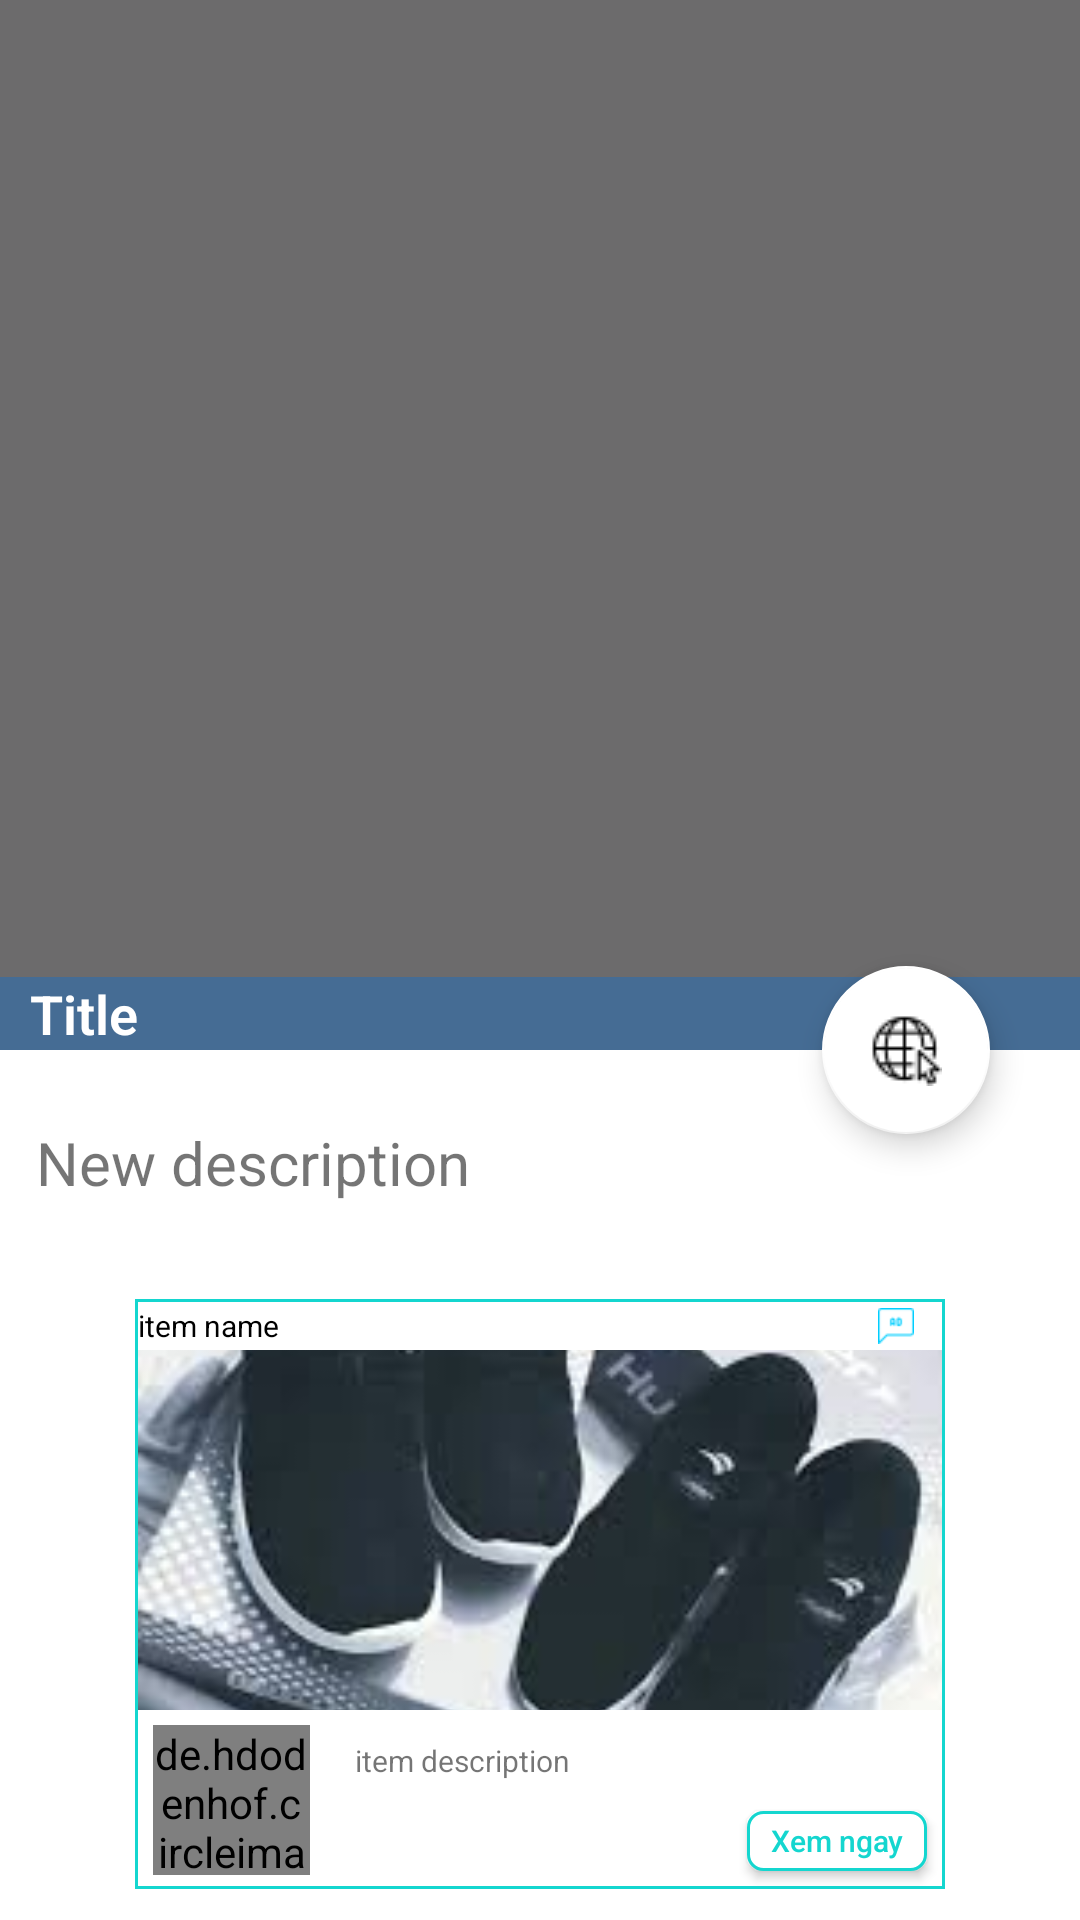

Where to tap for icons on this 1080×1920 app screen, as (x=x, y=y):
internet: (x=906, y=1050)
